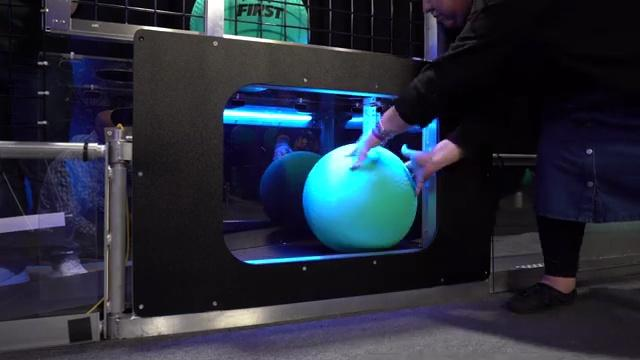ALGAE: (301, 141, 418, 251), (188, 0, 311, 47)
